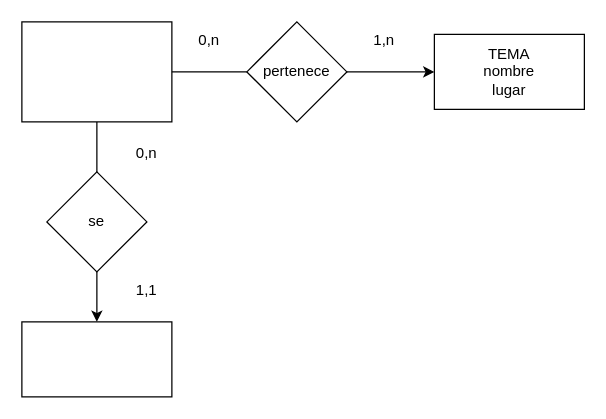
This 606x419 diagram has some shape labels left out. Each missing label, with the centre of its shape:
LIBRO titulo autores isbn codigo: (x=96, y=71)
PRESTAR: (x=96, y=359)
